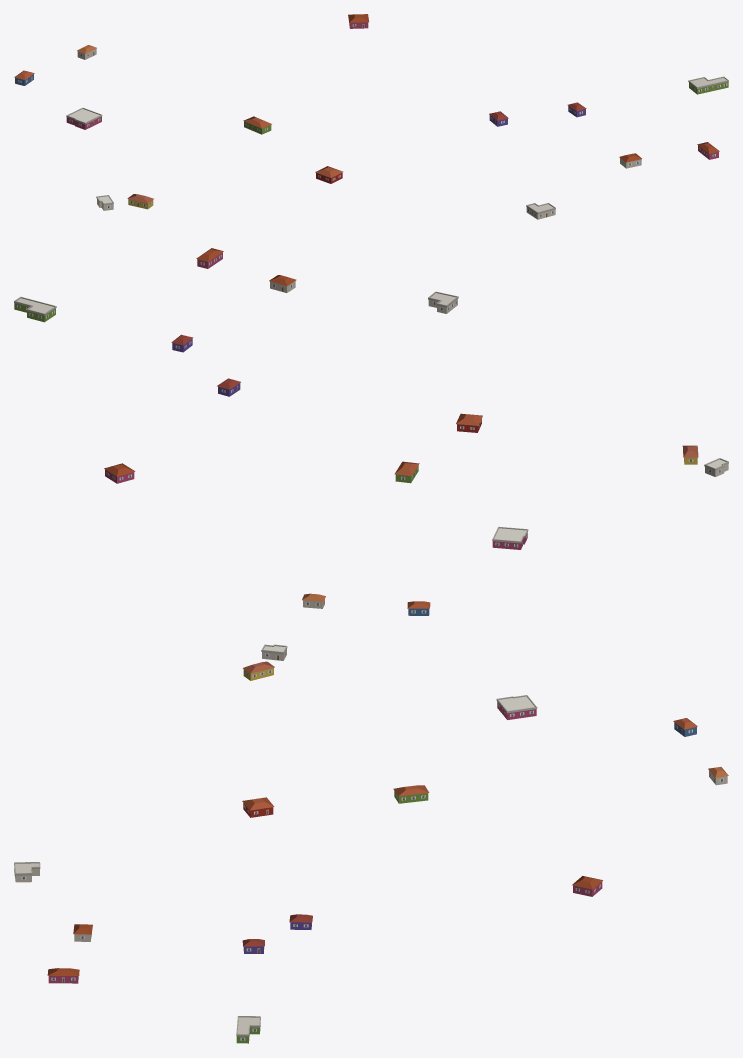
The model's file is msb_oranjestad_m20_m4.glb.
3 renders of one model, top to bottom at view 1: azimuth 30°, elevation 25°; view 2: azimuth 150°, elevation 25°; view 3: azimuth 270°, elevation 25°, orthographic. The views are drawn at different scales.
Visible parts, largest first — view 1: msb_oranjestad_m20_m4_lod0; view 2: msb_oranjestad_m20_m4_lod0; view 3: msb_oranjestad_m20_m4_lod0.
Part boxes in pixels (x1,y1,x2,y2): msb_oranjestad_m20_m4_lod0: (14, 14, 728, 219); msb_oranjestad_m20_m4_lod0: (14, 248, 728, 615); msb_oranjestad_m20_m4_lod0: (14, 644, 728, 1043).
Size of what is drawn, in the model's own units: 350 by 16.64 by 287.
Materials: 3 (1 with a texture image).
